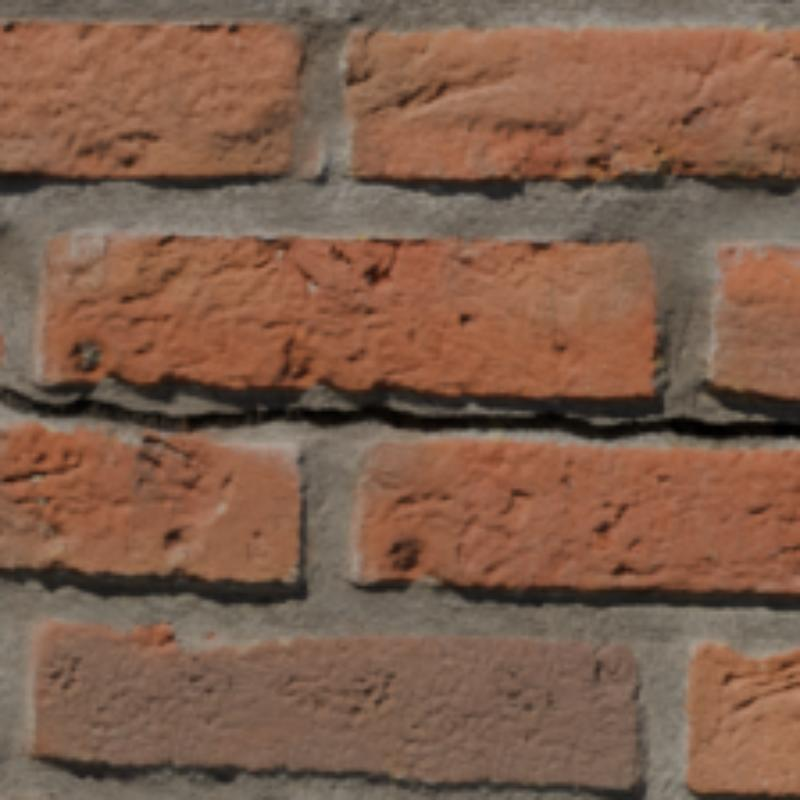pothole: (0, 386, 796, 436)
